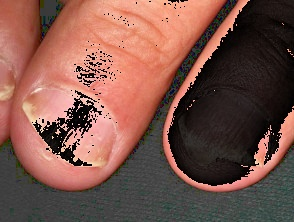Nail_psoriasis: (155, 93, 282, 202), (3, 85, 128, 184)
